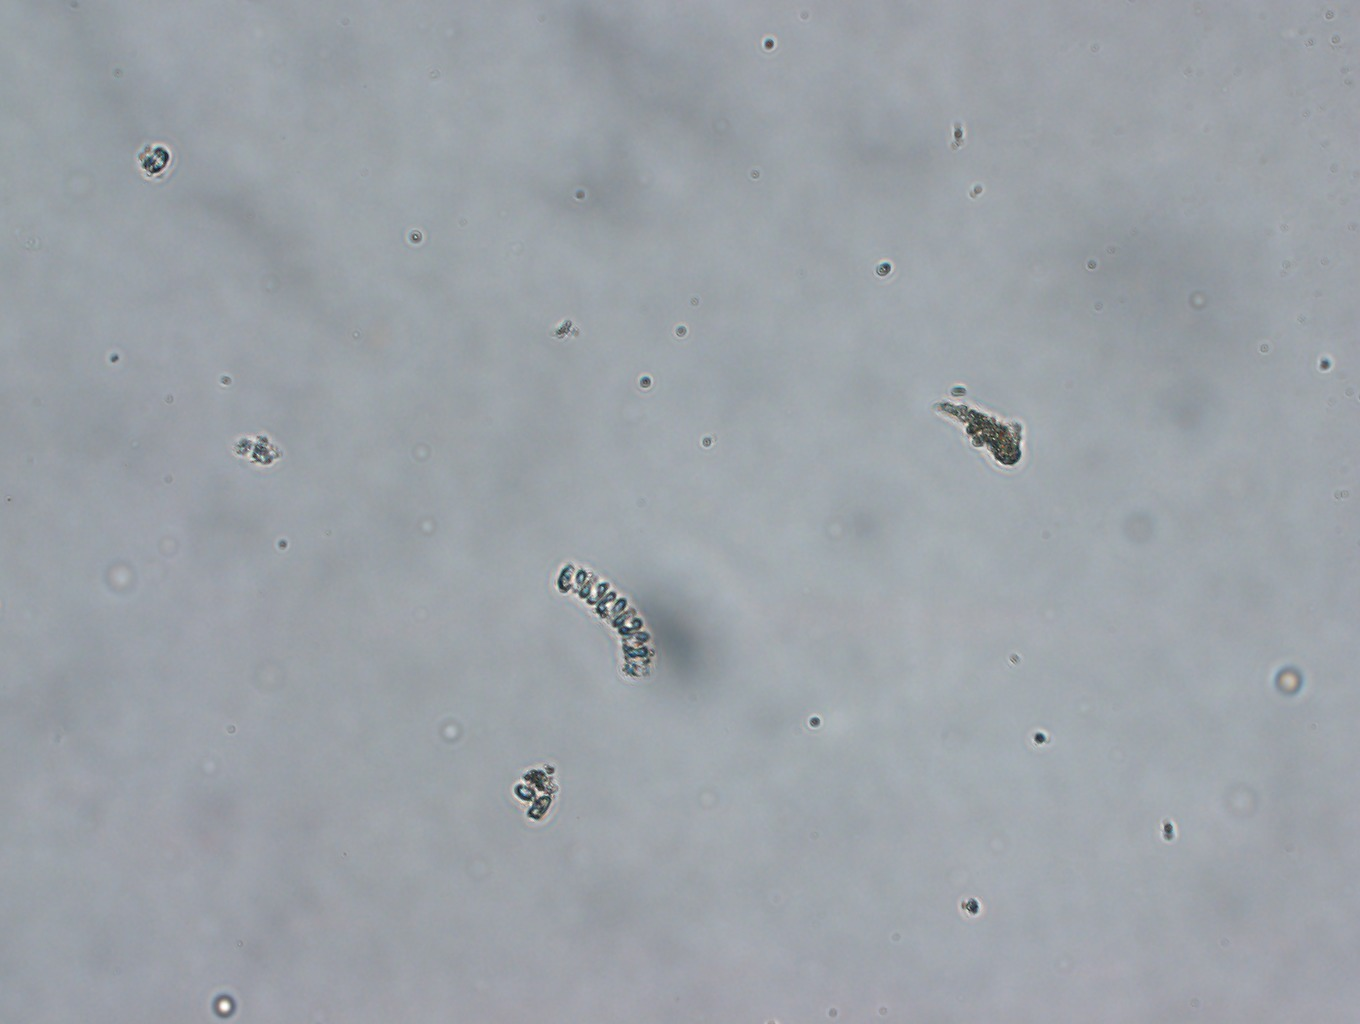skeletonema: (552, 563, 658, 683)
